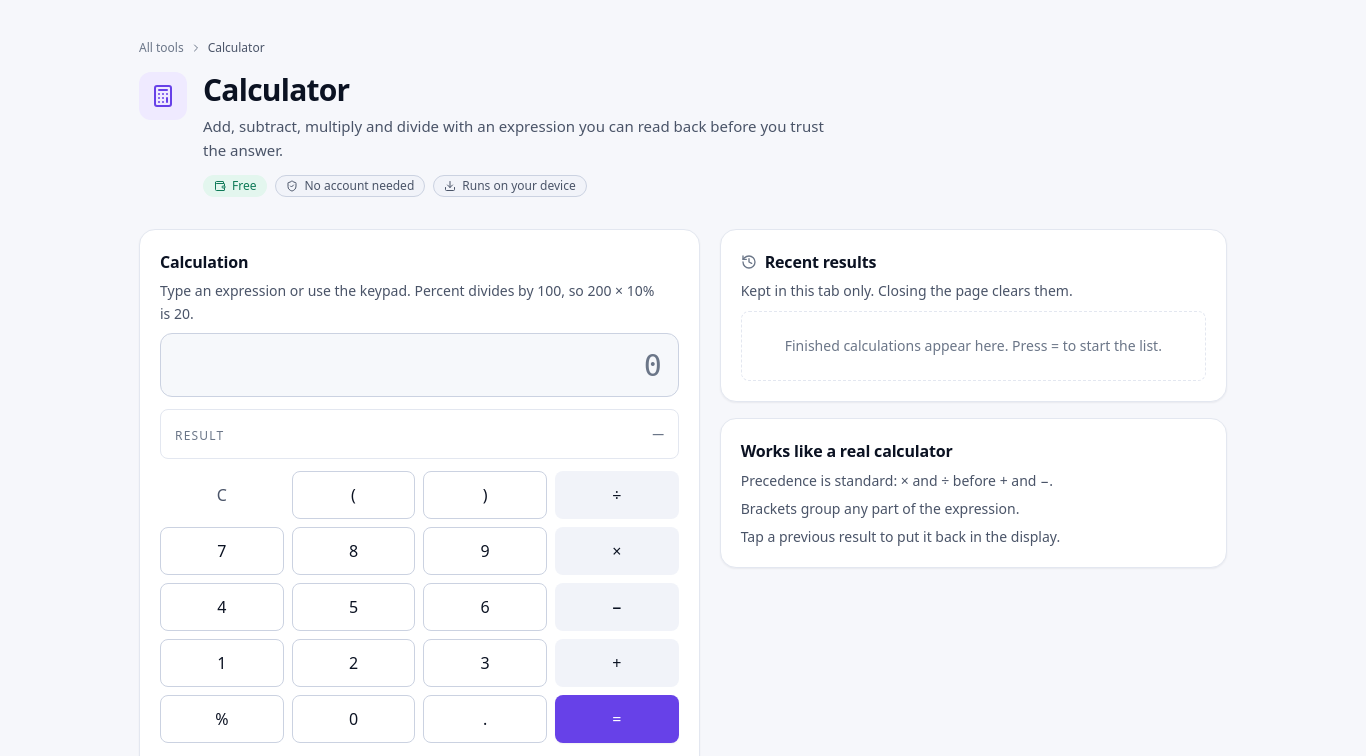
Test: CalculatorPage › works from the keypad and records a result
Click the button named "Insert 7" at {"x": 222, "y": 551}, box [160, 527, 284, 575]
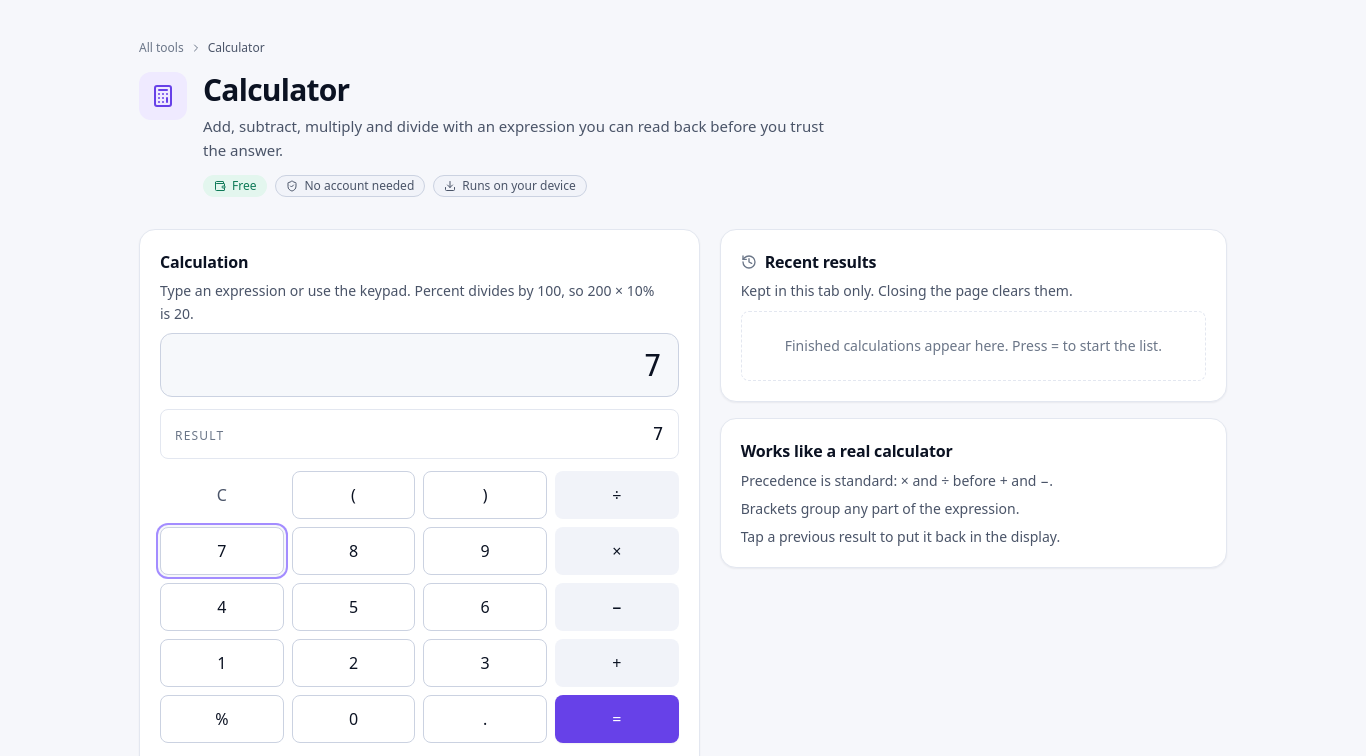
Click the button named "Insert +" at {"x": 617, "y": 663}, box [555, 639, 679, 687]
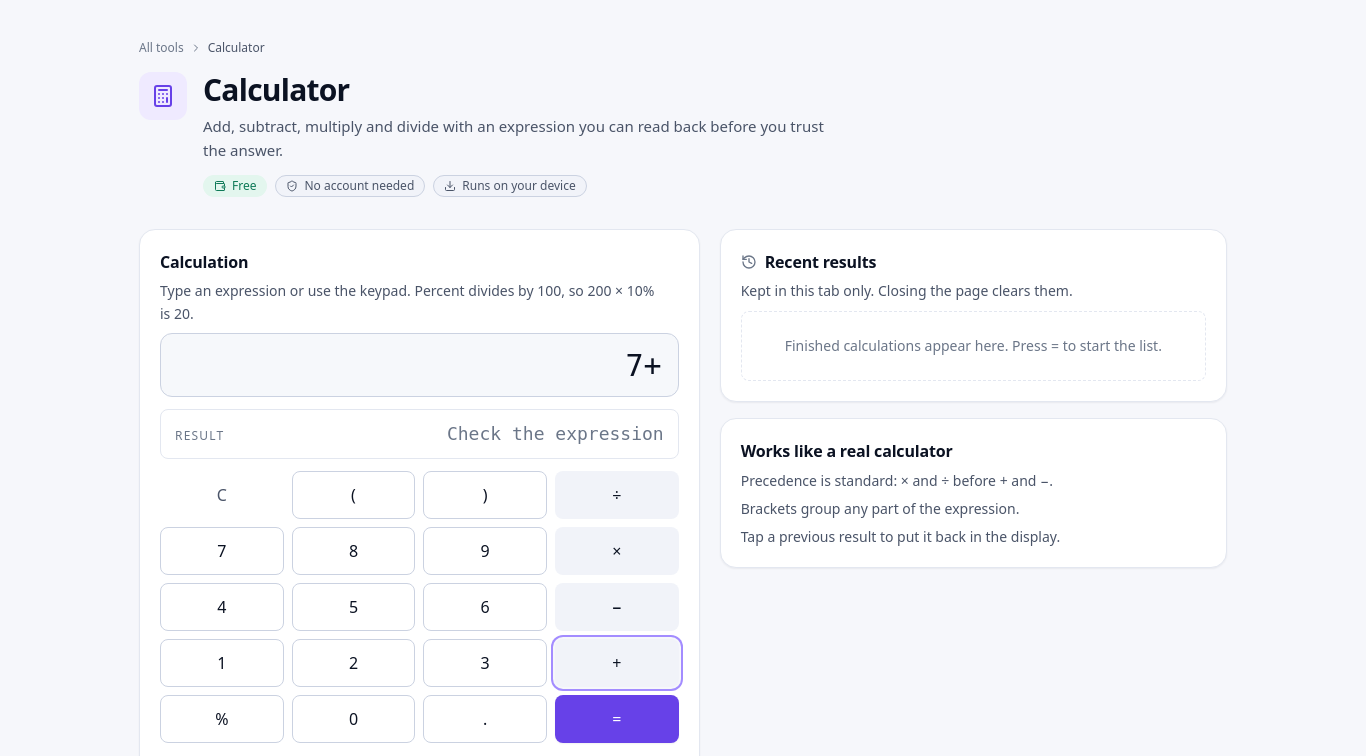
Click the button named "Insert 3" at {"x": 485, "y": 663}, box [423, 639, 547, 687]
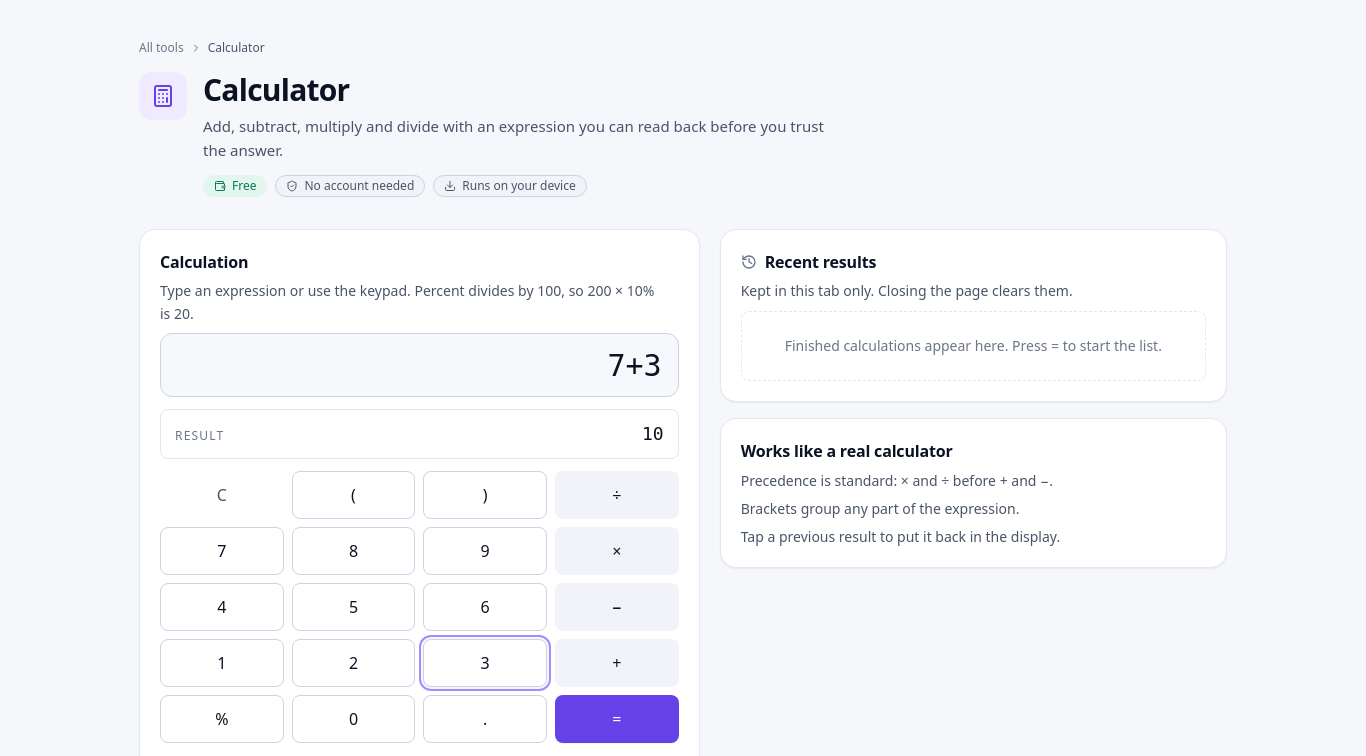
Click the button named "Equals" at {"x": 617, "y": 719}, box [555, 695, 679, 743]
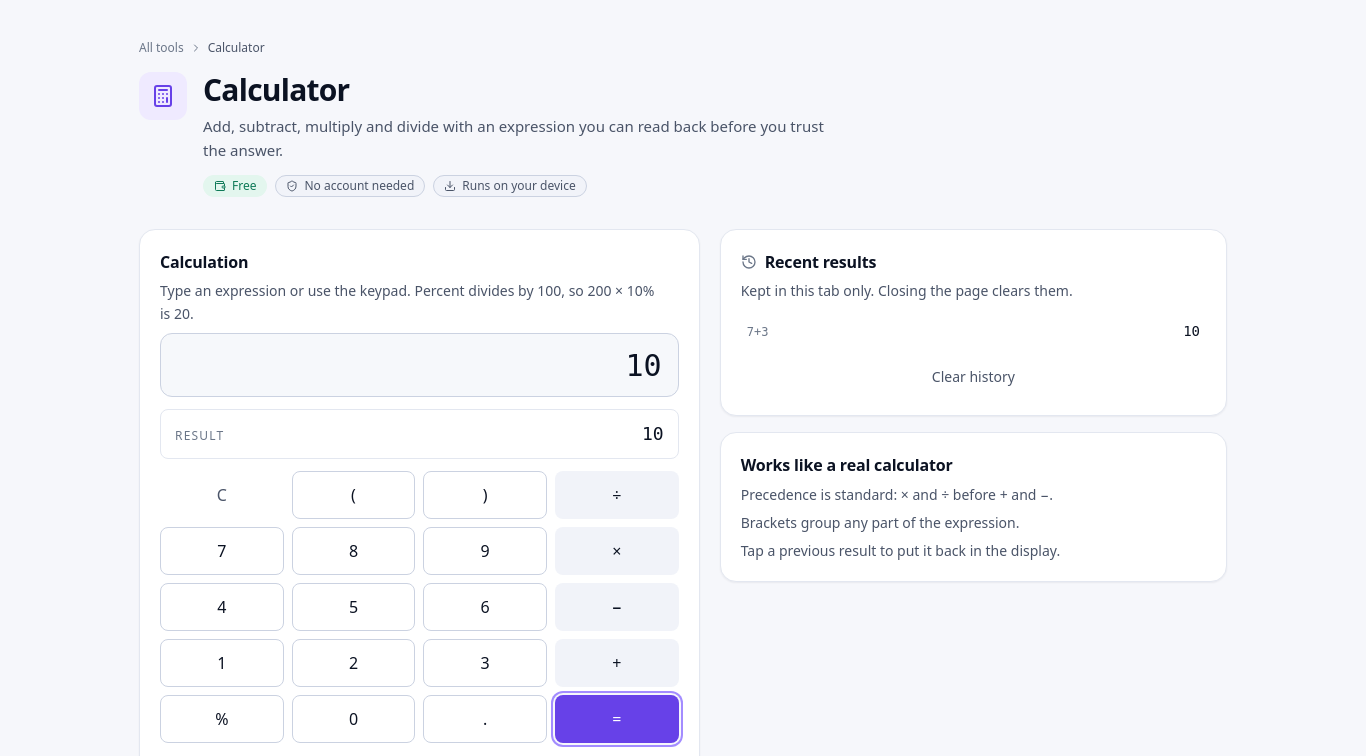
Check: the heading "Recent results" is shown, box [765, 250, 876, 274]
Check: the field named "Calculation" holds "10", box [160, 333, 679, 397]
